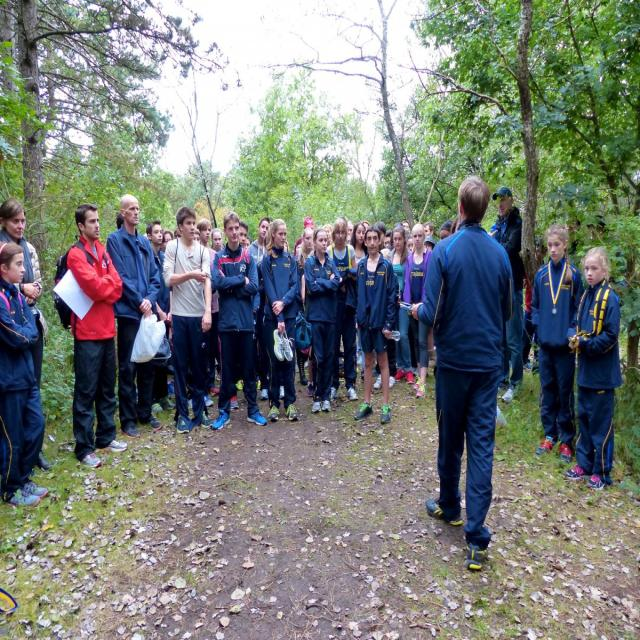body: (406, 170, 517, 577), (52, 200, 130, 469), (566, 243, 625, 497), (0, 192, 53, 474), (106, 193, 164, 438), (0, 238, 51, 511), (530, 223, 585, 464), (579, 209, 631, 459), (210, 209, 268, 432), (160, 203, 214, 434), (258, 215, 304, 424), (352, 224, 393, 426), (492, 186, 526, 403), (304, 223, 338, 418), (324, 215, 358, 402), (145, 219, 174, 415), (402, 222, 433, 398), (255, 232, 286, 402), (388, 224, 417, 388), (269, 235, 299, 389), (196, 217, 221, 395), (520, 234, 548, 373), (209, 238, 234, 384), (246, 215, 272, 264), (294, 226, 314, 284), (294, 213, 316, 256), (348, 221, 367, 268), (563, 215, 584, 256), (373, 220, 387, 256), (158, 228, 174, 252), (210, 227, 225, 252), (439, 218, 455, 241), (439, 218, 454, 241), (322, 222, 336, 246), (238, 219, 249, 248), (403, 233, 416, 257), (345, 218, 356, 246), (449, 213, 460, 236), (422, 220, 435, 237), (423, 234, 436, 250), (116, 210, 126, 230), (192, 226, 202, 245), (384, 230, 393, 250), (243, 235, 253, 249), (361, 220, 370, 233), (174, 227, 182, 241), (401, 219, 410, 230)
